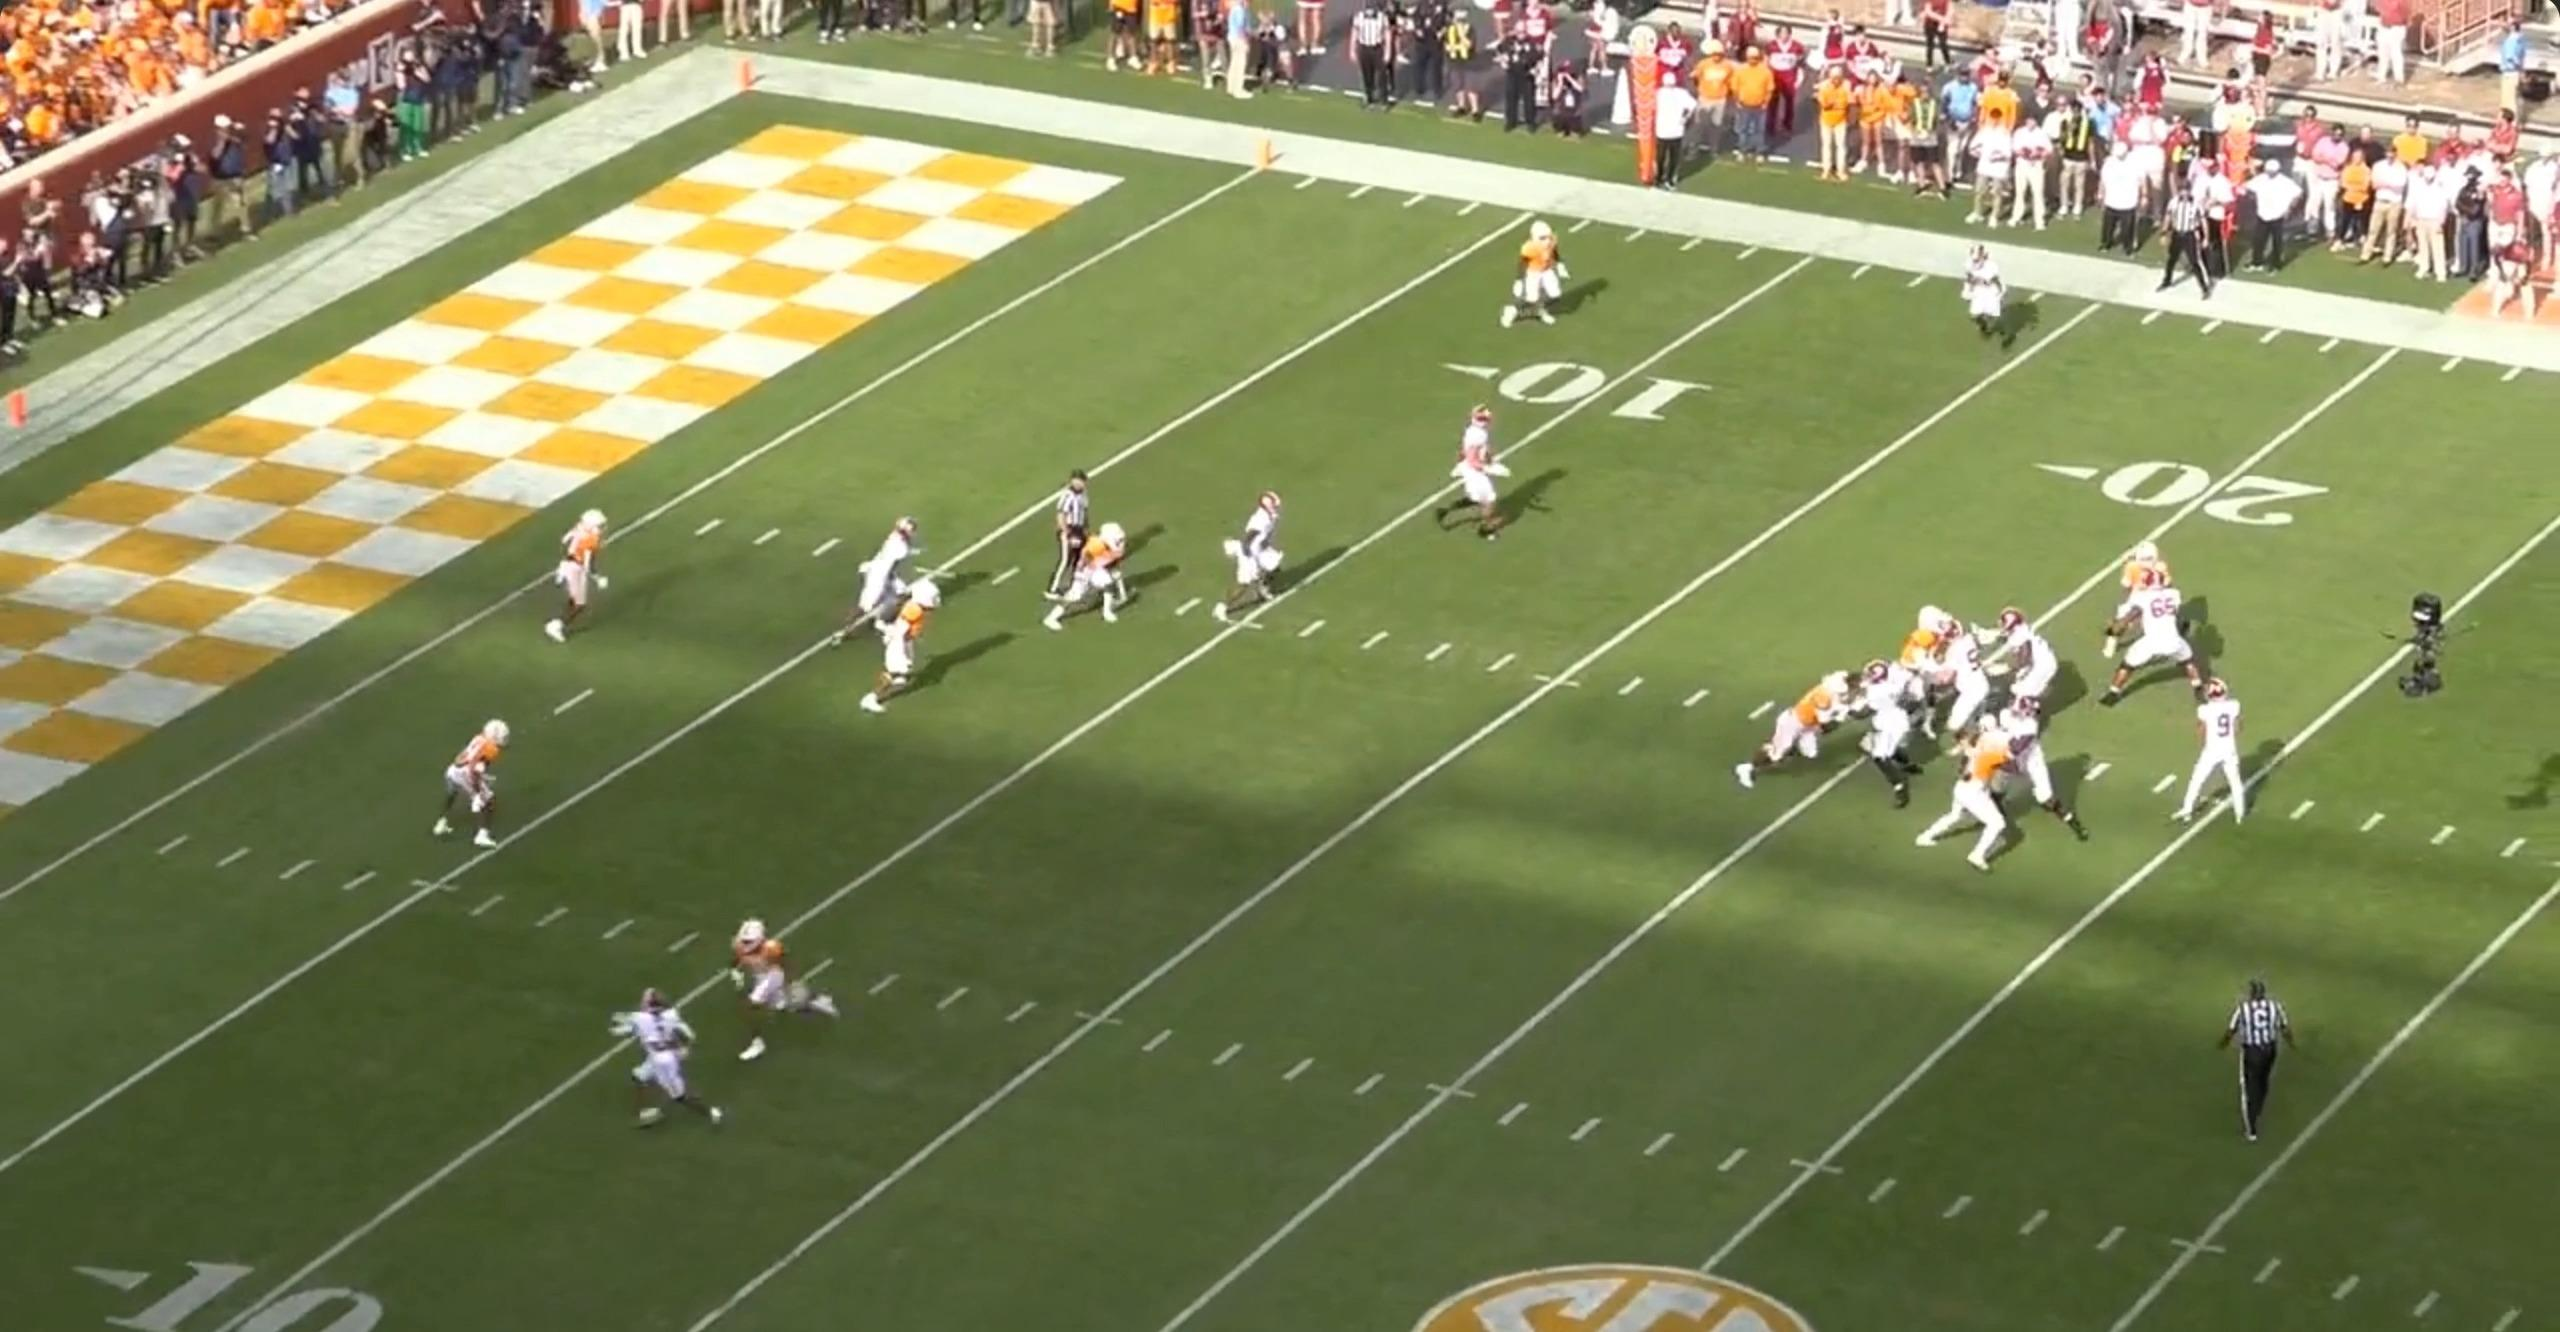player: (714, 915, 833, 1064), (613, 981, 727, 1131), (1731, 664, 1854, 793), (1994, 705, 2101, 852), (1919, 723, 2020, 872), (2095, 578, 2206, 711), (854, 577, 937, 724), (2173, 679, 2252, 833), (1439, 408, 1522, 550), (1857, 658, 1931, 812), (435, 721, 515, 859), (1046, 521, 1137, 638), (1218, 485, 1295, 619), (2099, 539, 2182, 663), (842, 514, 919, 642), (545, 508, 614, 649), (1976, 599, 2054, 719), (1500, 213, 1573, 328), (1935, 633, 1998, 763), (1949, 244, 2007, 358), (1903, 599, 1961, 700)
ref: (2223, 969, 2304, 1143), (2151, 175, 2219, 304), (1040, 466, 1095, 602)
